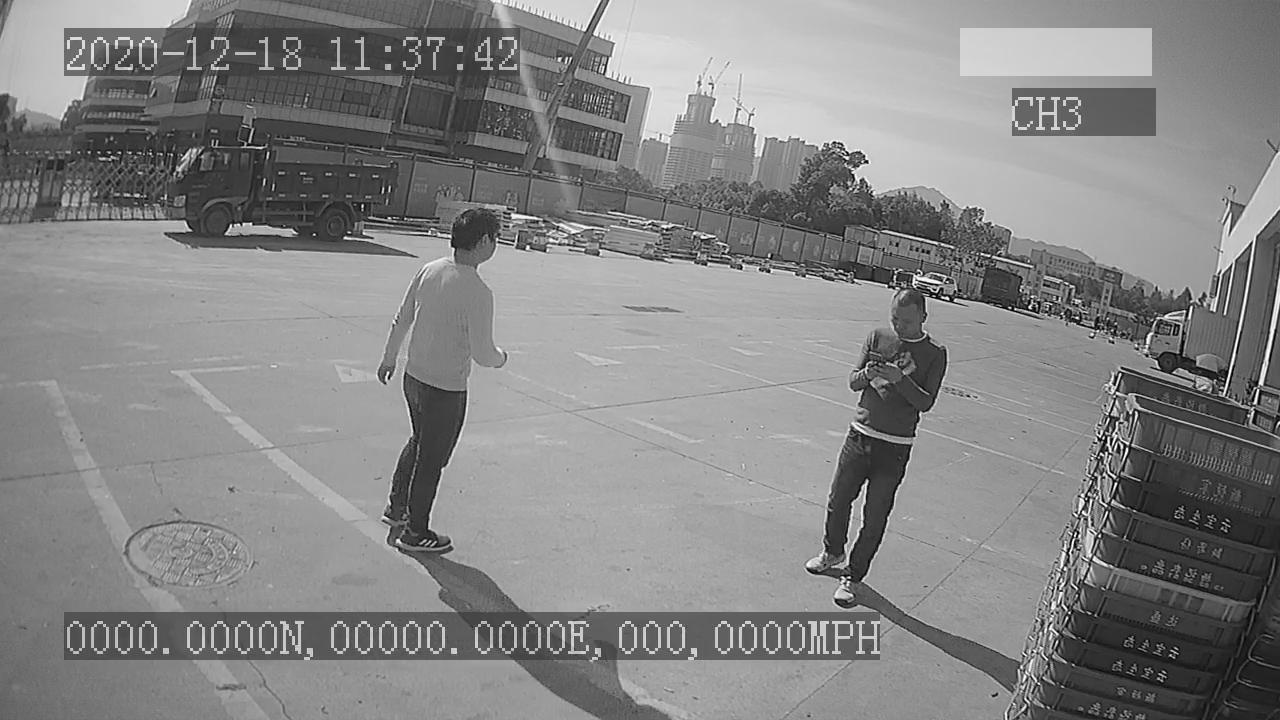person: (375, 206, 518, 559), (801, 285, 947, 607)
